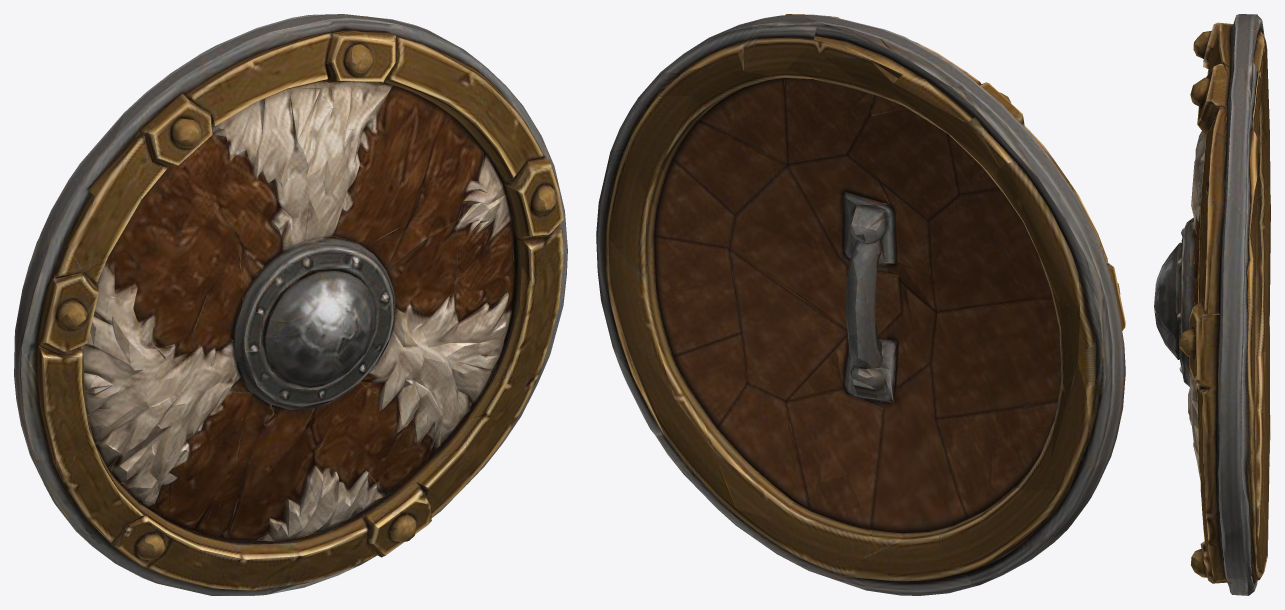
The model's file is raider_shield.glb.
The picture shows the model from 3 angles, left to right: view 1: azimuth 30°, elevation 25°; view 2: azimuth 150°, elevation 25°; view 3: azimuth 270°, elevation 25°; orthographic projection. The views are drawn at different scales.
Size of the model in its own units: 0.8808 by 0.8845 by 0.1768.
1 material, 1 textured.
